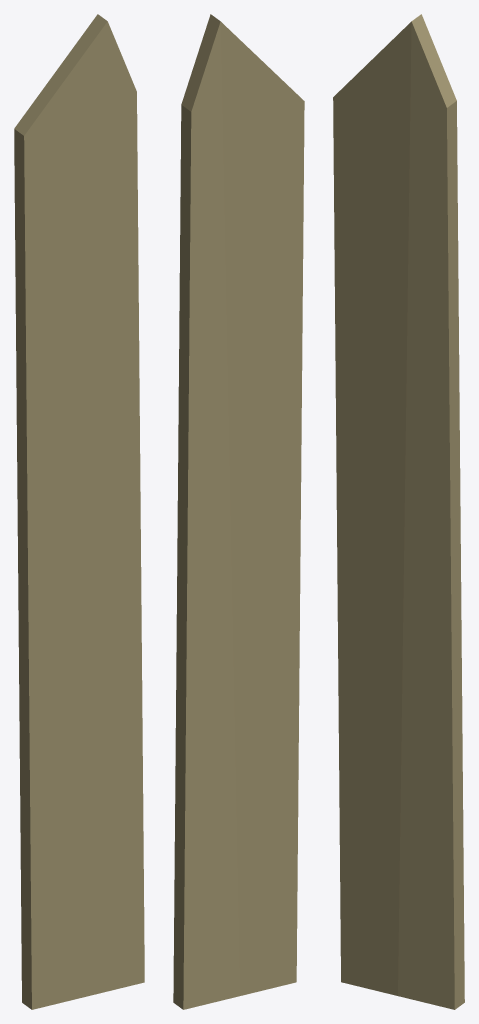
Rendered from Fence(4).fbx.
3 renders of one model, left to right at view 1: azimuth 30°, elevation 25°; view 2: azimuth 210°, elevation 25°; view 3: azimuth 330°, elevation 25°, orthographic.
Parts seen in each view (by area): view 1: Cube.063; view 2: Cube.063; view 3: Cube.063.
Part boxes in pixels (bbox=[...]): Cube.063: bbox=[14, 14, 144, 1009]; Cube.063: bbox=[173, 14, 304, 1009]; Cube.063: bbox=[333, 14, 464, 1009].
Bounding box in the file's own units: 21.61 × 166 × 3.99.
Materials: 1 (1 with a texture image).
